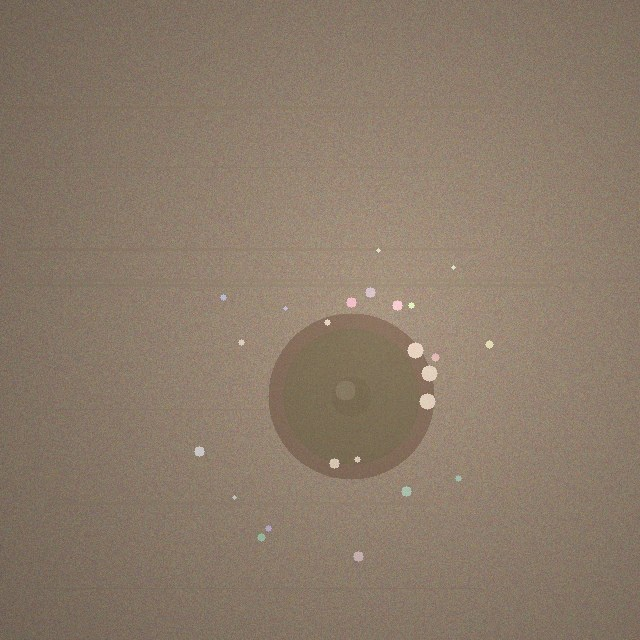overburn: (268, 313, 434, 479)
